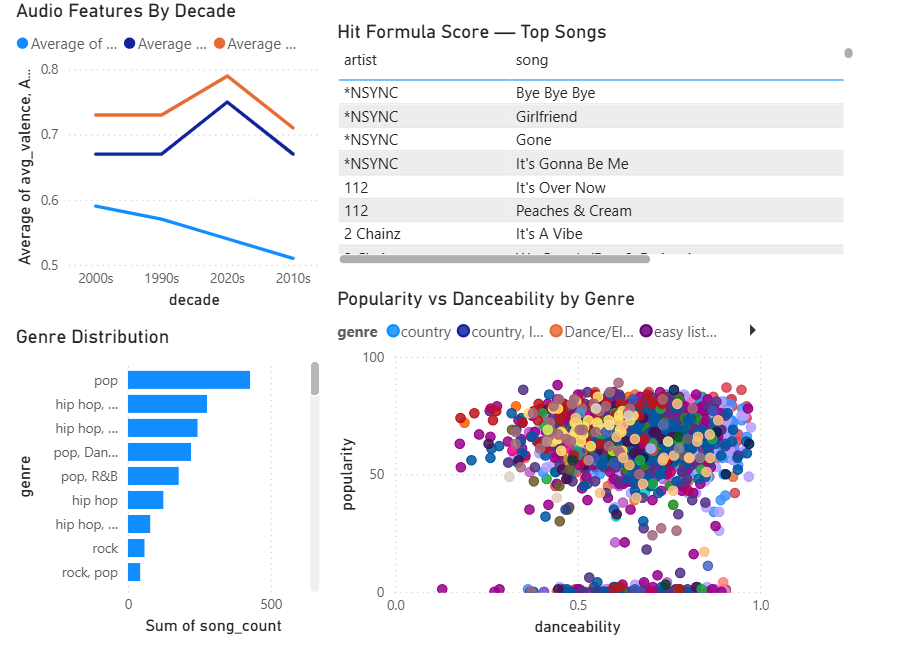

This screenshot's page, from the dashboard's own definition file:
{"tool":"powerbi","page":{"name":"Hit Overview","canvas":[1280,720],"ordinal":0},"visuals":[{"type":"lineChart","title":"Audio Features By Decade","fields":{"Category":["01_decade_averages.decade"],"Y":["Avg(01_decade_averages.avg_valence)","Avg(01_decade_averages.avg_danceability)","Avg(01_decade_averages.avg_energy)"]},"box":[10,0,280,280],"z":0},{"type":"clusteredBarChart","title":"Genre Distribution","fields":{"Y":["Sum(03_genre_by_year.song_count)"],"Category":["03_genre_by_year.genre"]},"box":[10,290,280,280],"z":1000},{"type":"tableEx","title":"Hit Formula Score — Top Songs","fields":{"Values":["05_hit_formula_score.artist","05_hit_formula_score.song","05_hit_formula_score.year","05_hit_formula_score.popularity","05_hit_formula_score.hit_formula_score"]},"box":[295.8,19.2,469.2,221.7],"z":2000},{"type":"scatterChart","title":"Popularity vs Danceability by Genre","fields":{"X":["hits_cleaned.danceability"],"Y":["hits_cleaned.popularity"],"Series":["hits_cleaned.genre"]},"box":[295.8,255,394.2,315],"z":2001}]}

Visuals, with their boxes on the page's 1280x720 design canvas (x1, y1, x2, y2). These are canvas units, not pixel positions in the 905x666 screenshot, which may show the page scaled, cropped or inside an application window:
"Audio Features By Decade" lineChart: locate(10, 0, 290, 280)
"Genre Distribution" clusteredBarChart: locate(10, 290, 290, 570)
"Hit Formula Score — Top Songs" tableEx: locate(296, 19, 765, 241)
"Popularity vs Danceability by Genre" scatterChart: locate(296, 255, 690, 570)
